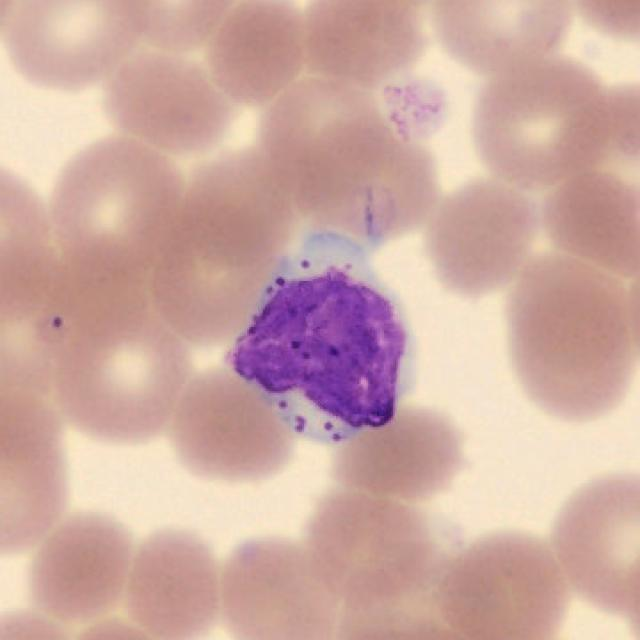Linfocito: (226, 231, 412, 448)
